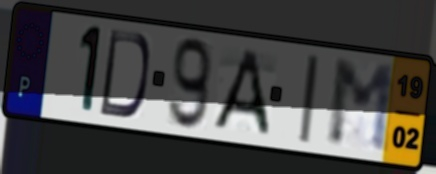1: (74, 22, 105, 119)
9: (167, 34, 214, 133)
A: (209, 46, 272, 139)
D: (96, 27, 152, 121)
I: (296, 52, 322, 146)
M: (326, 58, 398, 156)
